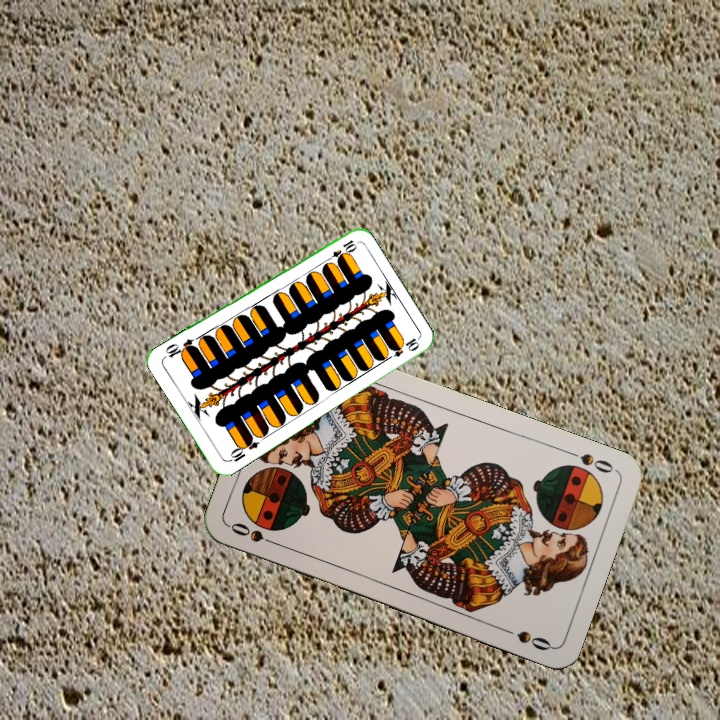E10: (224, 433, 261, 465), (321, 235, 358, 266)
SO: (226, 518, 283, 549), (562, 446, 619, 476)
